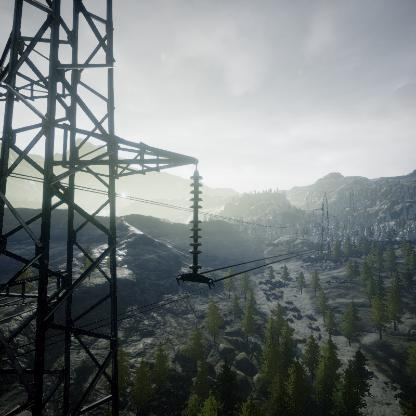insulator: (187, 170, 203, 272)
